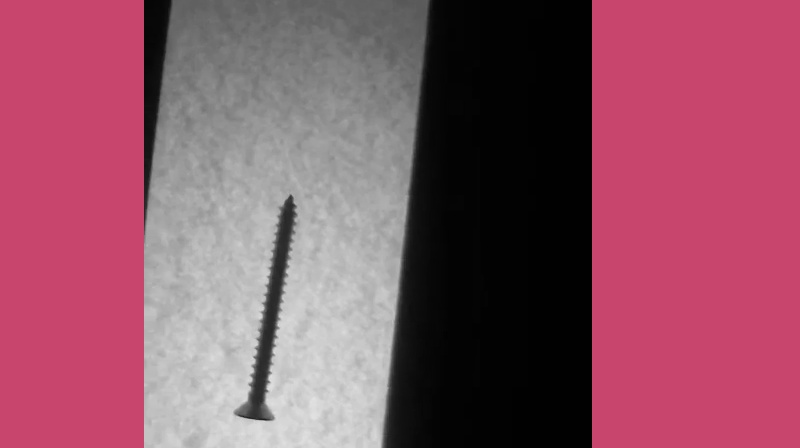S002: (229, 190, 298, 423)
